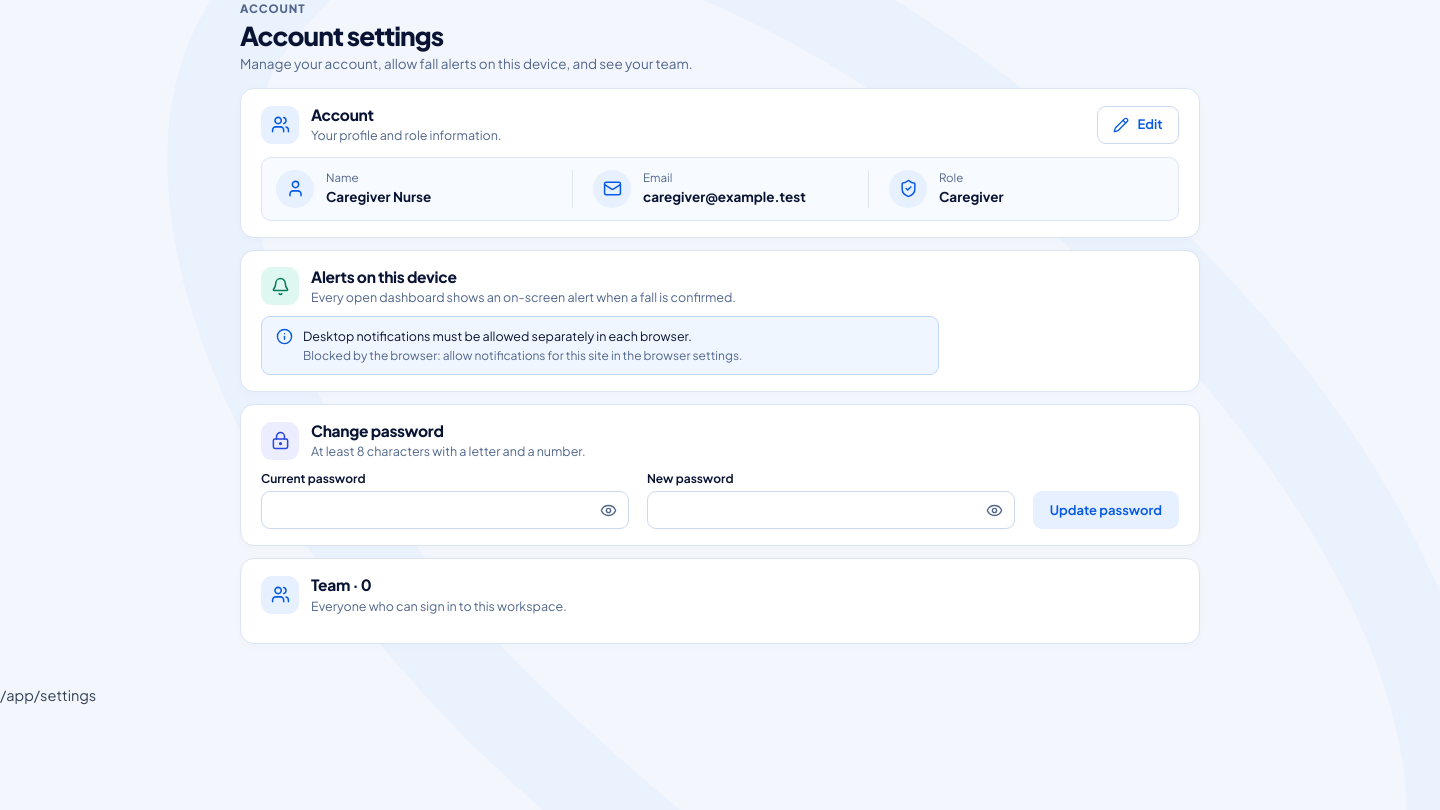
Test: Account settings reference controls › explains unavailable profile editing without sending an account write
Click the button "Edit": click(1138, 125) [1097,106,1179,144]
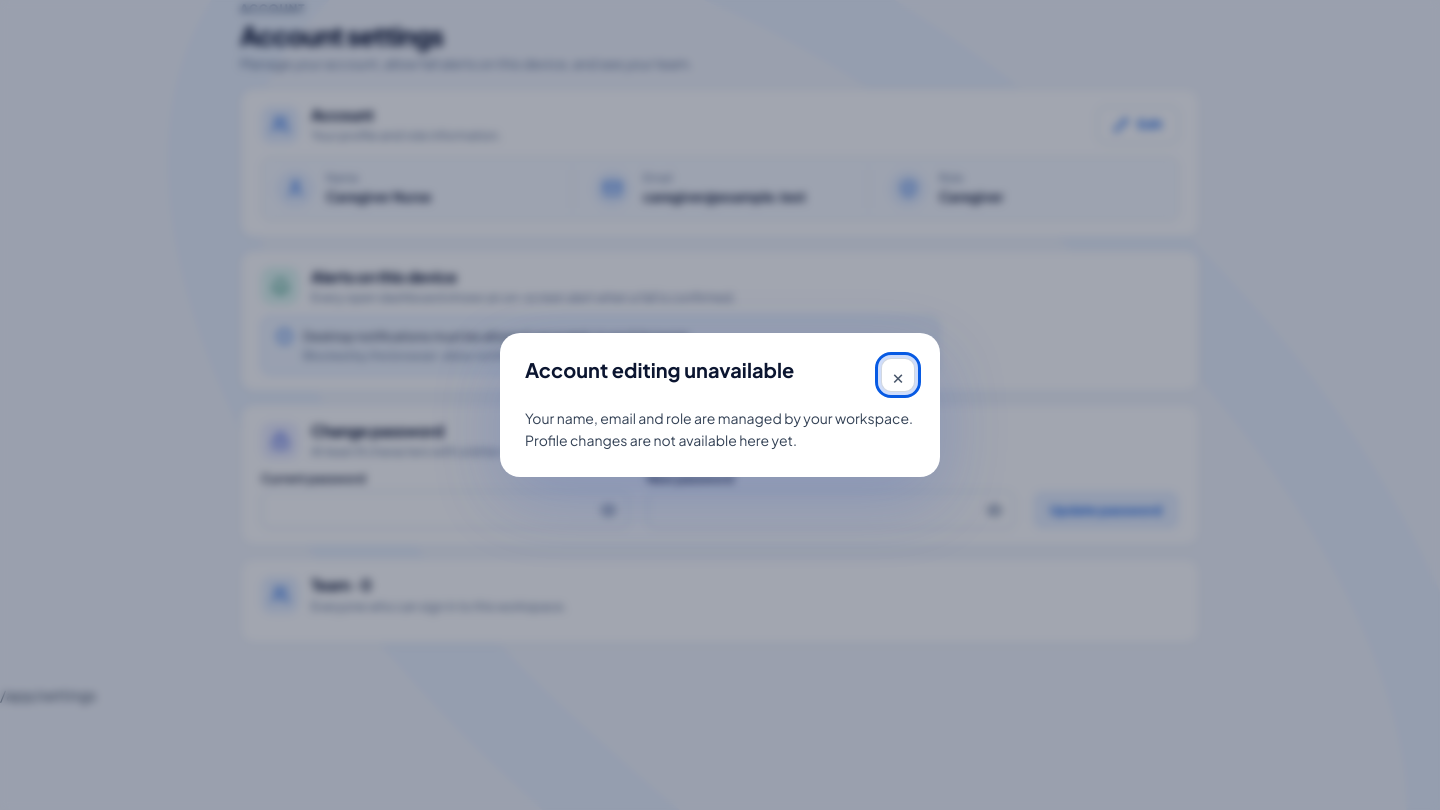
Now the heading "Account editing unavailable" is shown, box [525,358,794,382]
Now the text "profile changes are not available here yet" is shown, box [525,409,913,449]
